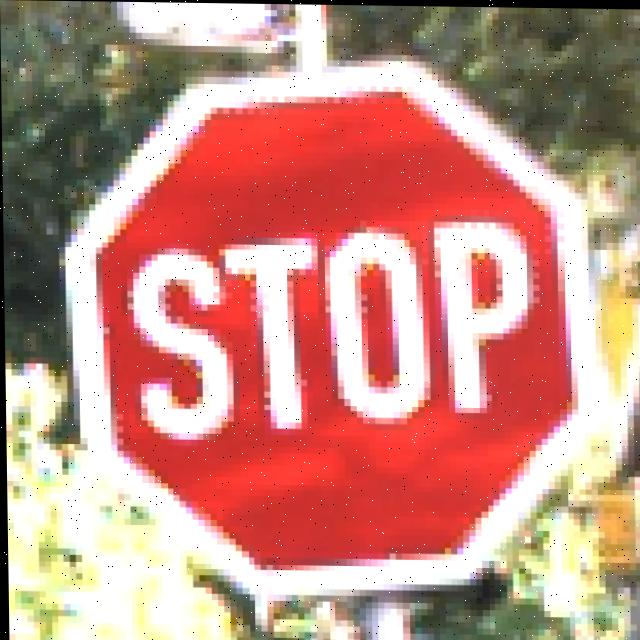stop: (61, 88, 596, 578)
